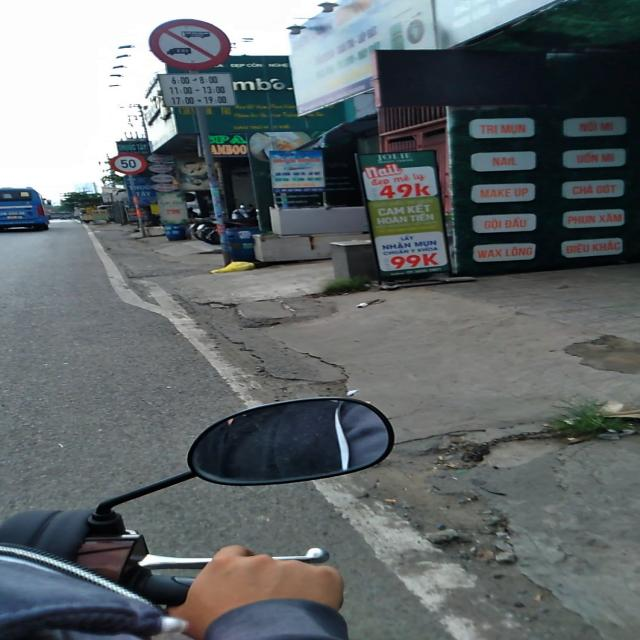Cam con lai: (143, 18, 235, 72)
Toc do toi da: (110, 153, 147, 175)
